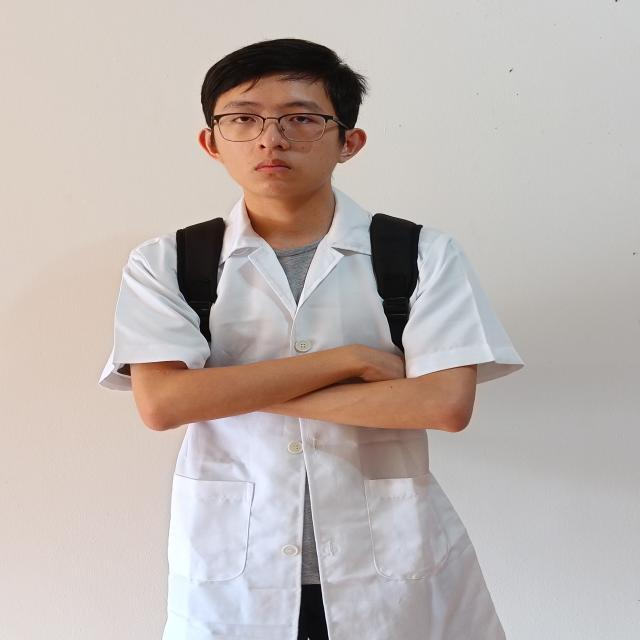person_with_labcoat: (100, 40, 522, 640)
